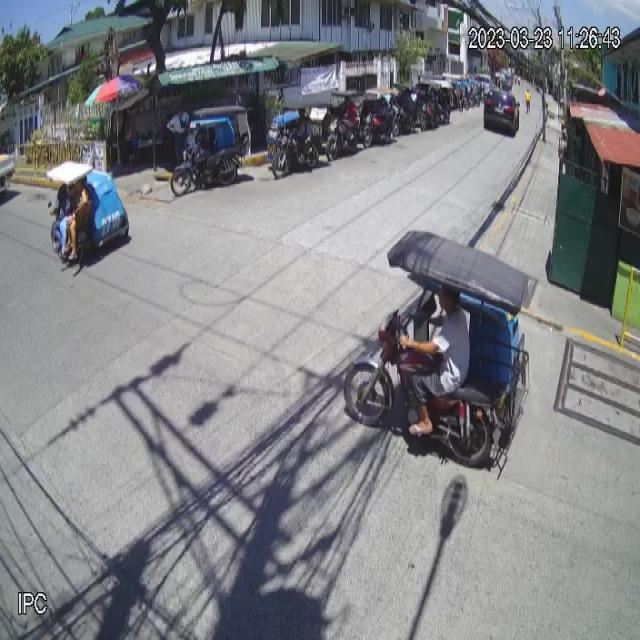Tricycle: (343, 229, 529, 470), (46, 160, 129, 264)
